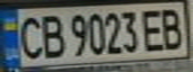0: (87, 9, 106, 56)
2: (103, 8, 124, 55)
3: (121, 8, 142, 54)
9: (66, 10, 90, 57)
B: (157, 4, 190, 51), (36, 11, 66, 60)
C: (12, 12, 48, 61)
E: (139, 6, 169, 53)
